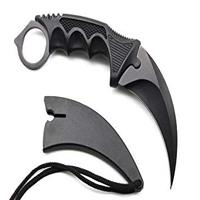knife: (12, 10, 185, 185)
